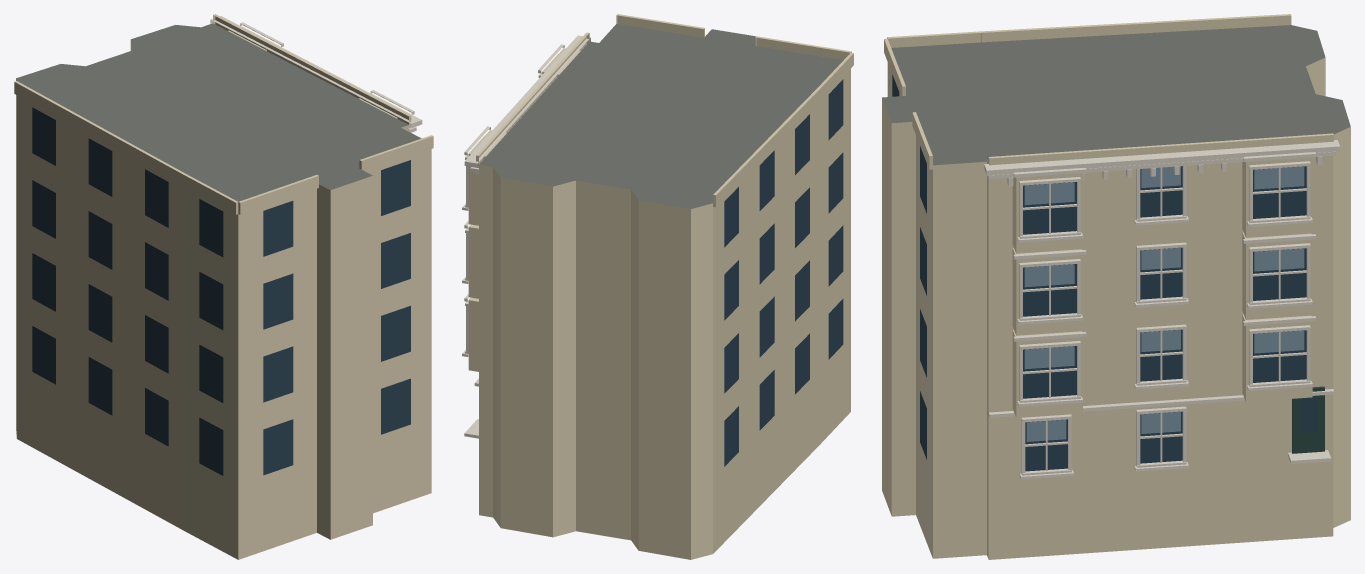
3 views of the same model, side by side, from view 1: azimuth 30°, elevation 25°; view 2: azimuth 150°, elevation 25°; view 3: azimuth 270°, elevation 25° (orthographic). The views are drawn at different scales.
Visible parts, largest first — view 1: Footprint 0 / surface 2, Footprint 0 / surface 1, Inset glazing, Facade bay volumes, Cornices and window frames; view 2: Footprint 0 / surface 2, Footprint 0 / surface 1, Inset glazing, Facade bay volumes, Cornices and window frames; view 3: Footprint 0 / surface 2, Footprint 0 / surface 1, Cornices and window frames, Facade bay volumes, Inset glazing, Sky reflection panels, Storefronts and doors.
Boxes of the visible parts, x1=… form: Footprint 0 / surface 2: x1=16, y1=40, x2=431, y2=559; Footprint 0 / surface 1: x1=16, y1=23, x2=421, y2=201; Inset glazing: x1=32, y1=107, x2=410, y2=475; Facade bay volumes: x1=14, y1=14, x2=433, y2=214; Cornices and window frames: x1=210, y1=16, x2=422, y2=132; Footprint 0 / surface 2: x1=479, y1=45, x2=850, y2=559; Footprint 0 / surface 1: x1=479, y1=24, x2=843, y2=208; Inset glazing: x1=724, y1=79, x2=843, y2=466; Facade bay volumes: x1=468, y1=14, x2=853, y2=371; Cornices and window frames: x1=462, y1=35, x2=590, y2=438; Footprint 0 / surface 2: x1=882, y1=57, x2=1350, y2=559; Footprint 0 / surface 1: x1=882, y1=25, x2=1350, y2=165; Cornices and window frames: x1=984, y1=140, x2=1340, y2=479; Facade bay volumes: x1=884, y1=14, x2=1333, y2=417; Inset glazing: x1=892, y1=74, x2=1318, y2=471; Sky reflection panels: x1=1024, y1=166, x2=1304, y2=441; Storefronts and doors: x1=1292, y1=386, x2=1324, y2=453.
Size of the model in its own units: 12.09 by 14.78 by 15.58.
